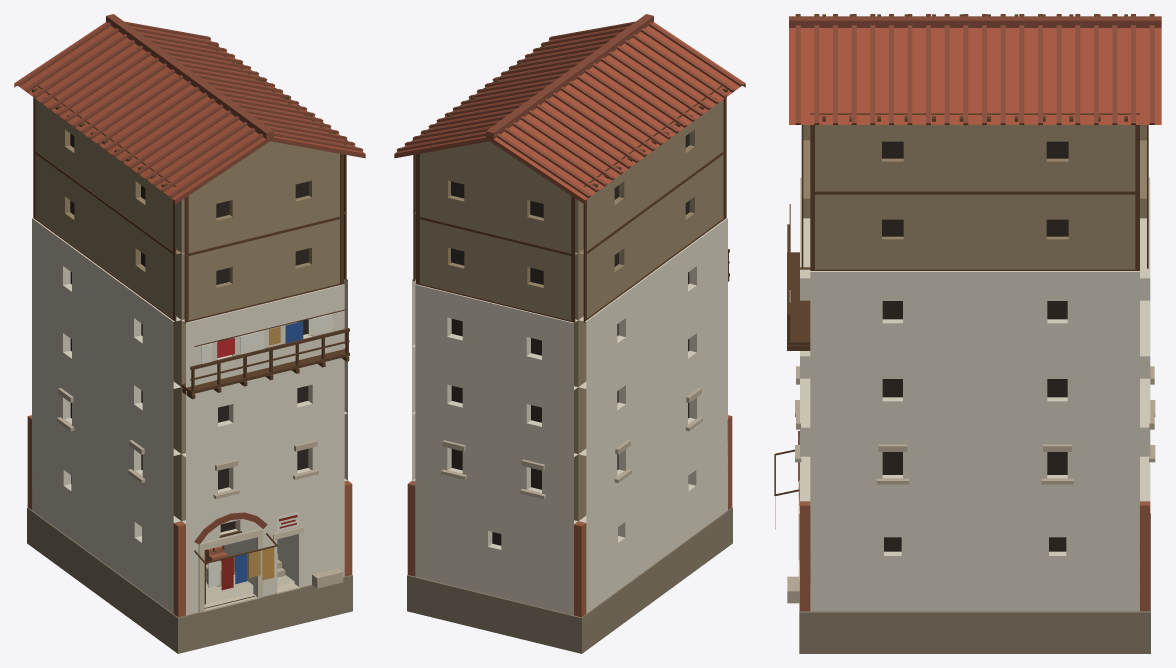
File: rome_insula_h.glb
The picture shows the model from 3 angles, left to right: view 1: azimuth 30°, elevation 25°; view 2: azimuth 150°, elevation 25°; view 3: azimuth 270°, elevation 25°; orthographic projection. The views are drawn at different scales.
Parts seen in each view (by area): view 1: rome_insula_h; view 2: rome_insula_h; view 3: rome_insula_h.
Part boxes in pixels (box(x1,y1,x2,y2)): rome_insula_h: box(14, 14, 365, 653); rome_insula_h: box(394, 14, 745, 653); rome_insula_h: box(774, 14, 1161, 653).
Size of the model in its own units: 8.87 by 22.17 by 13.28.
